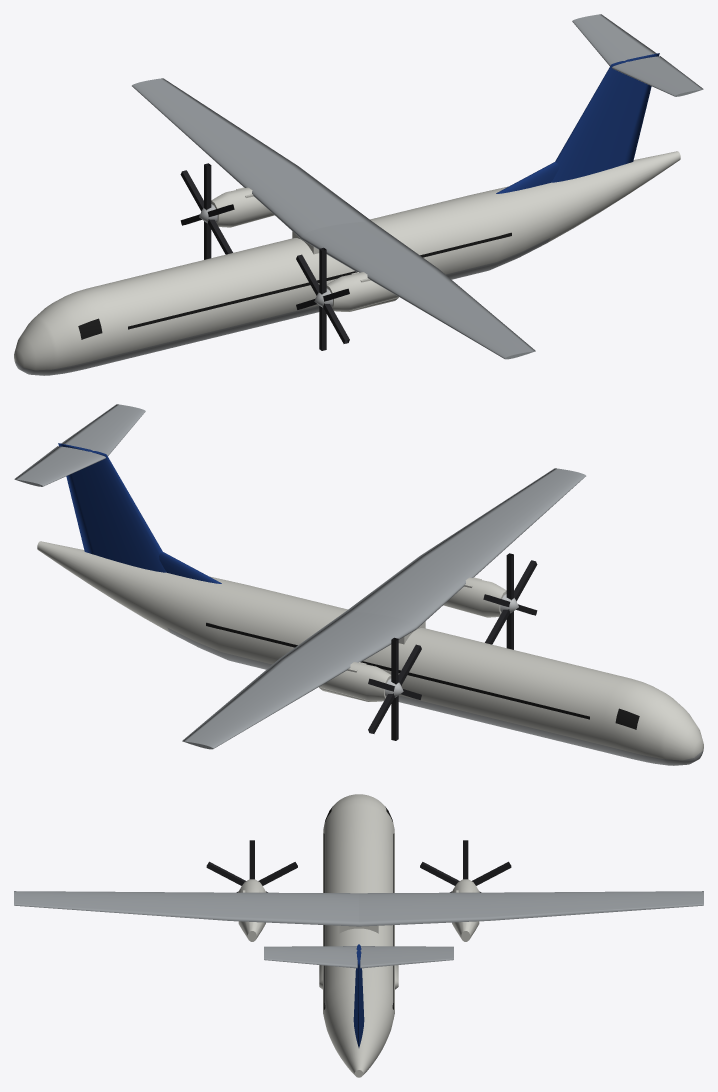
The picture shows the model from 3 angles, top to bottom: view 1: azimuth 30°, elevation 25°; view 2: azimuth 150°, elevation 25°; view 3: azimuth 270°, elevation 25°; orthographic projection. The views are drawn at different scales.
Visible parts, largest first — view 1: at72; view 2: at72; view 3: at72.
Boxes of the visible parts, left/top/right/bottom form: at72: left=14, top=14, right=703, bottom=375; at72: left=14, top=404, right=703, bottom=765; at72: left=14, top=794, right=703, bottom=1077.
Bounding box in the file's own units: 27.17 × 6.91 × 26.51.
